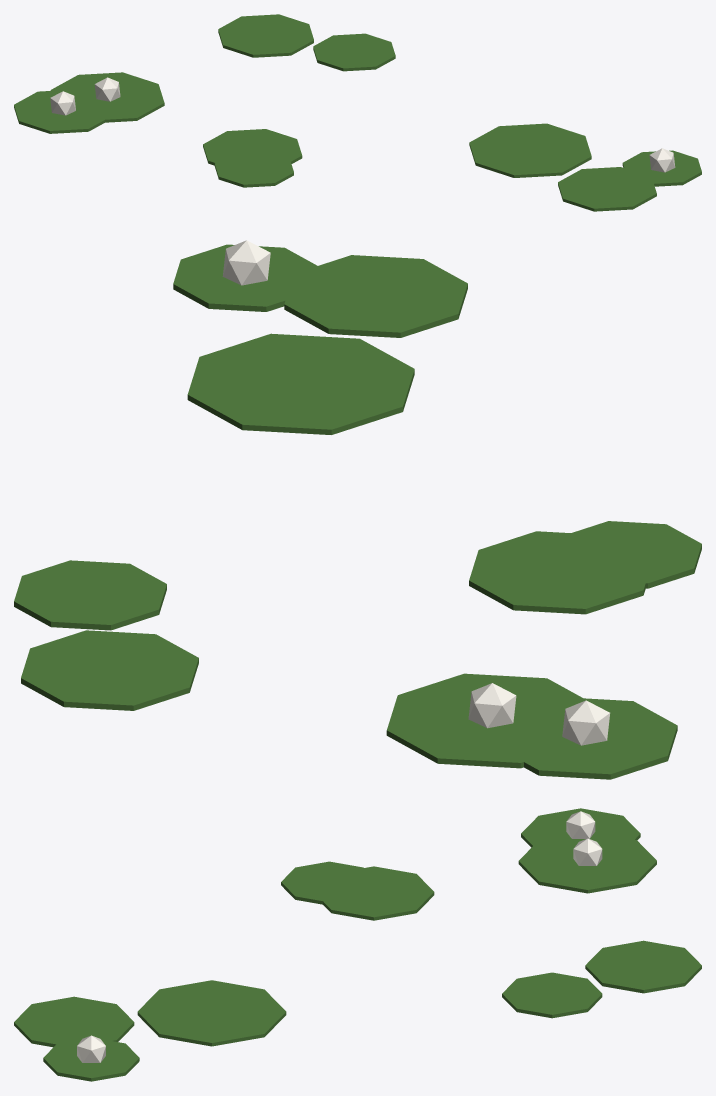
File: nackrosor_1.glb
The picture shows the model from 3 angles, top to bottom: view 1: azimuth 30°, elevation 25°; view 2: azimuth 150°, elevation 25°; view 3: azimuth 270°, elevation 25°; orthographic projection. The views are drawn at different scales.
Visible parts, largest first — view 1: nackrosor_1; view 2: nackrosor_1; view 3: nackrosor_1.
Boxes of the visible parts, box(x1,y1,x2,y2) form: nackrosor_1: box(14, 14, 701, 211); nackrosor_1: box(14, 240, 701, 779); nackrosor_1: box(14, 808, 701, 1081).
Bounding box in the file's own units: 3.36 × 0.18 × 3.62.
